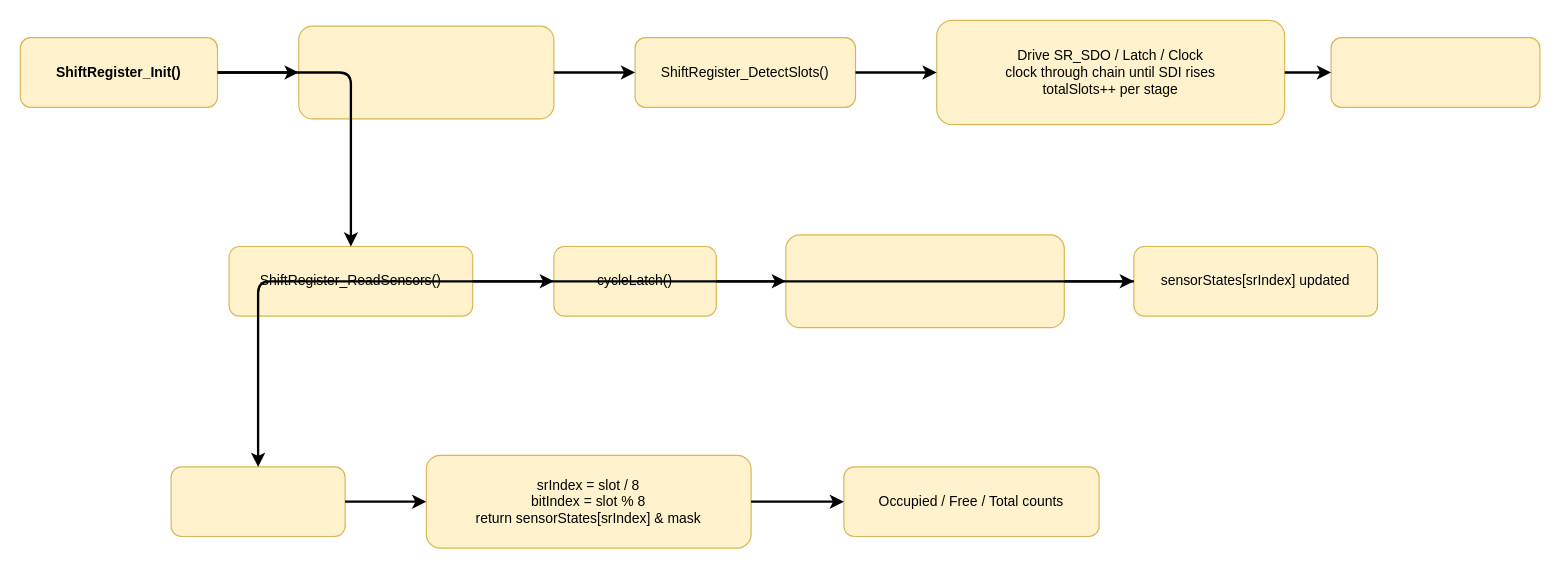
This 1560x568 diagram has some shape labels left out. Here are the shapes that lost their labels. From the top down, the centre of each, then its label:
At (x=426, y=72): "Clear sensorStates activeRegisters=0 totalSlots=0".
At (x=1435, y=72): "activeRegisters = ceil(totalSlots / 8)".
At (x=924, y=281): "For each active register for each bit readBit() + cycleClock()".
At (x=257, y=501): "GetSlotState(slot)".
